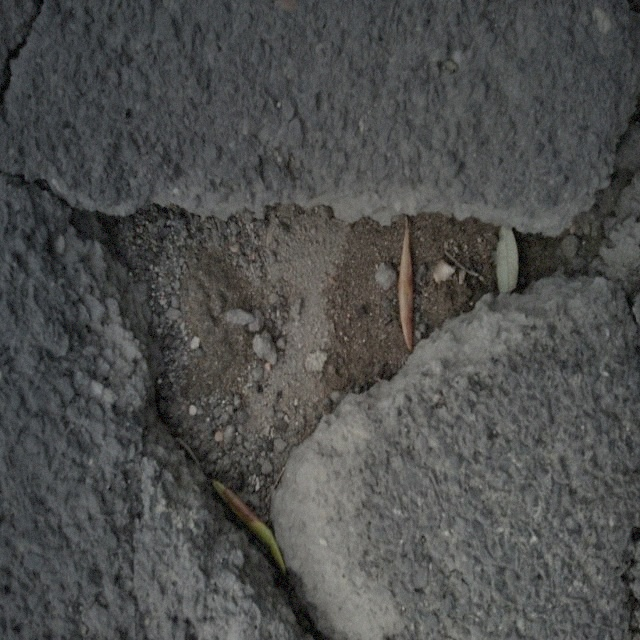pothole: (69, 152, 593, 528)
